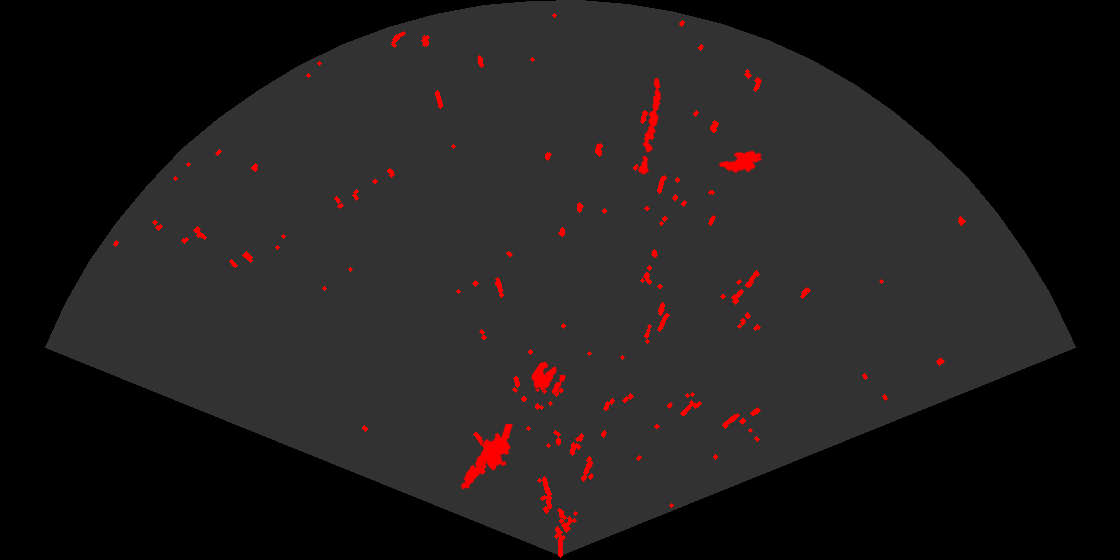AUV: (717, 149, 764, 174)
ball: (530, 360, 567, 395)
chain: (637, 76, 663, 177)
frogman: (459, 424, 514, 491)
